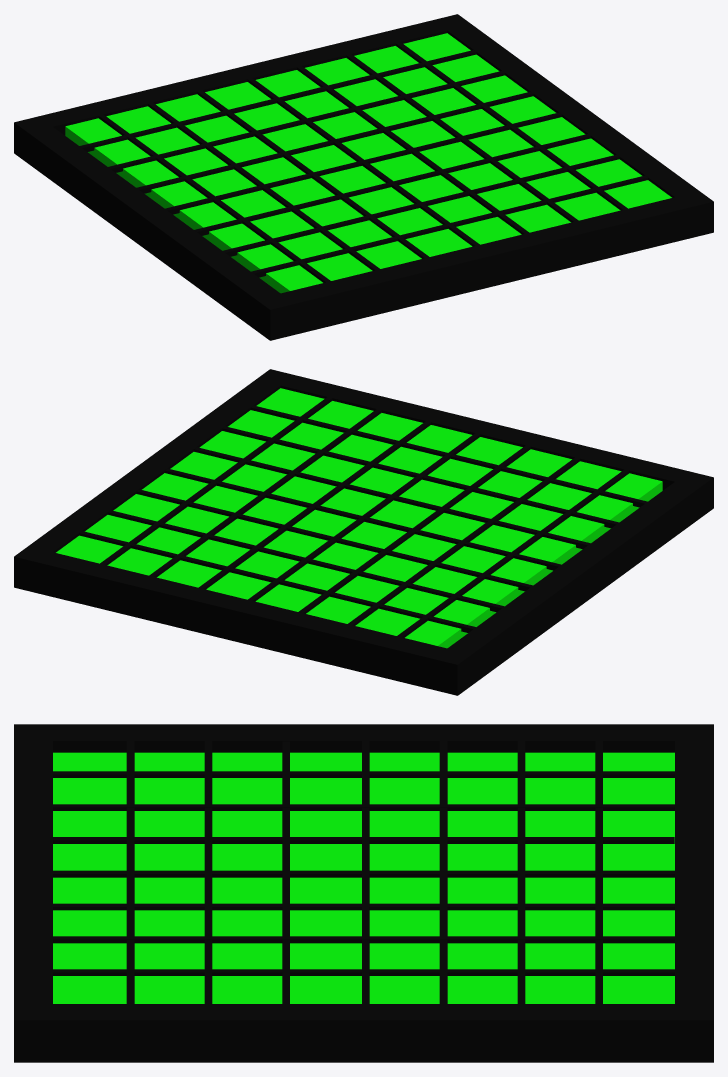
File: board.dae
3 views of the same model, one above another, from view 1: azimuth 30°, elevation 25°; view 2: azimuth 150°, elevation 25°; view 3: azimuth 270°, elevation 25° (orthographic). The views are drawn at different scales.
Visible parts, largest first — view 1: Cube-004, Cube; view 2: Cube-004, Cube; view 3: Cube-004, Cube.
Part boxes in pixels (x1,y1,x2,y2): Cube-004: [14, 14, 713, 340]; Cube: [65, 33, 671, 293]; Cube-004: [14, 369, 713, 695]; Cube: [56, 388, 662, 648]; Cube-004: [14, 724, 713, 1062]; Cube: [53, 752, 674, 1003].
Size of the model in its own units: 0.18 by 0.012 by 0.18.
